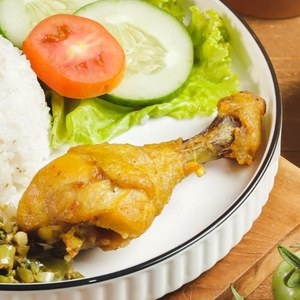ayam_goreng: (15, 91, 272, 249)
